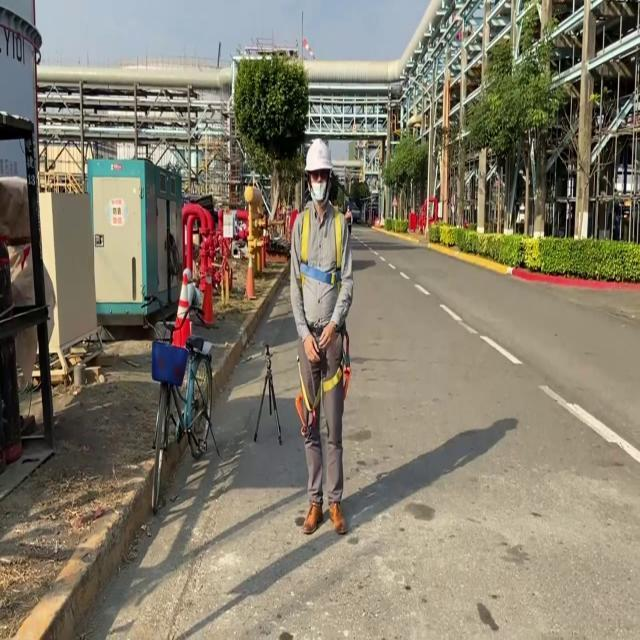Harness: (295, 328, 351, 438), (301, 208, 344, 286)
